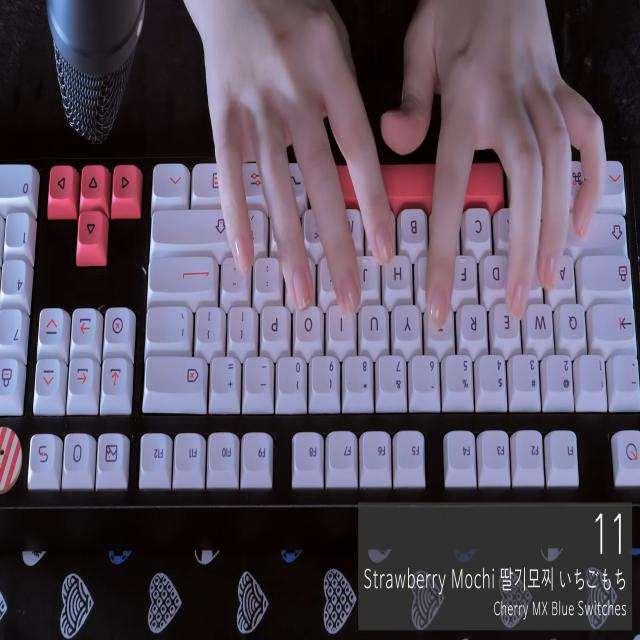keyboard-with-hands: (0, 158, 640, 505)
